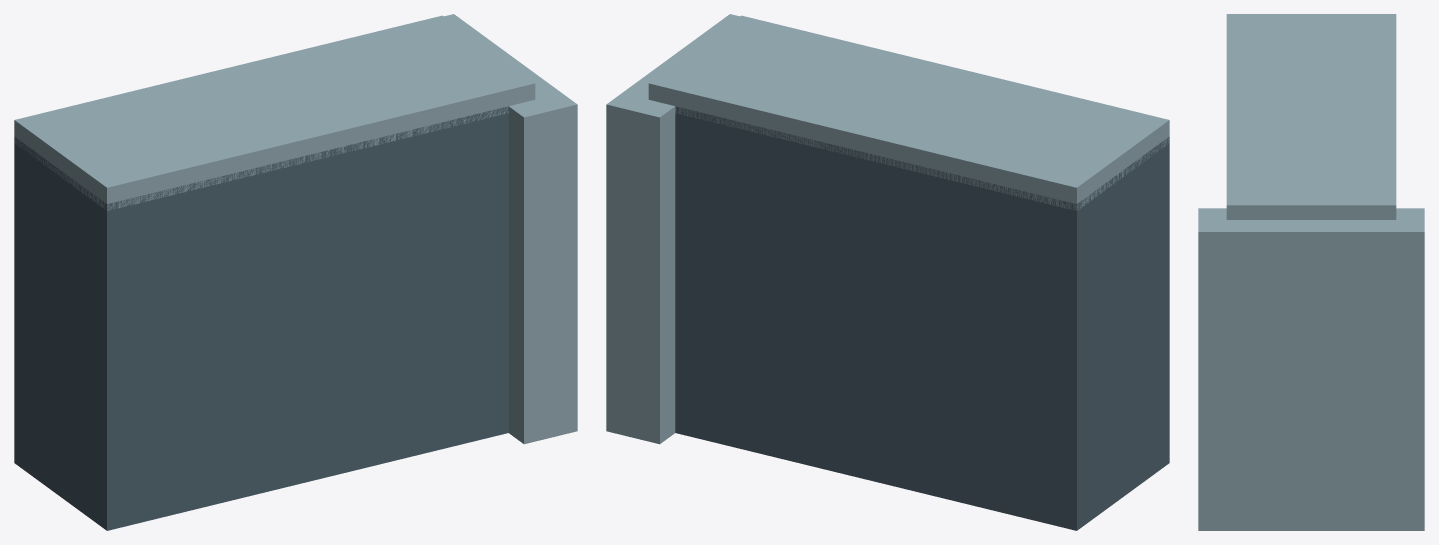
File: wall_low_end.glb
3 views of the same model, side by side, from view 1: azimuth 30°, elevation 25°; view 2: azimuth 150°, elevation 25°; view 3: azimuth 270°, elevation 25° (orthographic). The views are drawn at different scales.
Parts seen in each view (by area): view 1: LowWallEnd, LowWallEndCap, EndCap; view 2: LowWallEnd, LowWallEndCap, EndCap; view 3: EndCap, LowWallEndCap.
Boxes of the visible parts, x1,y1,x2,y2 form: LowWallEnd: (14, 106, 508, 530); LowWallEndCap: (14, 15, 535, 210); EndCap: (444, 14, 577, 444); LowWallEnd: (675, 106, 1169, 530); LowWallEndCap: (648, 15, 1169, 210); EndCap: (606, 14, 739, 444); EndCap: (1198, 208, 1424, 530); LowWallEndCap: (1226, 14, 1396, 219).
Size of the model in its own units: 1.02 by 0.735 by 0.48.
